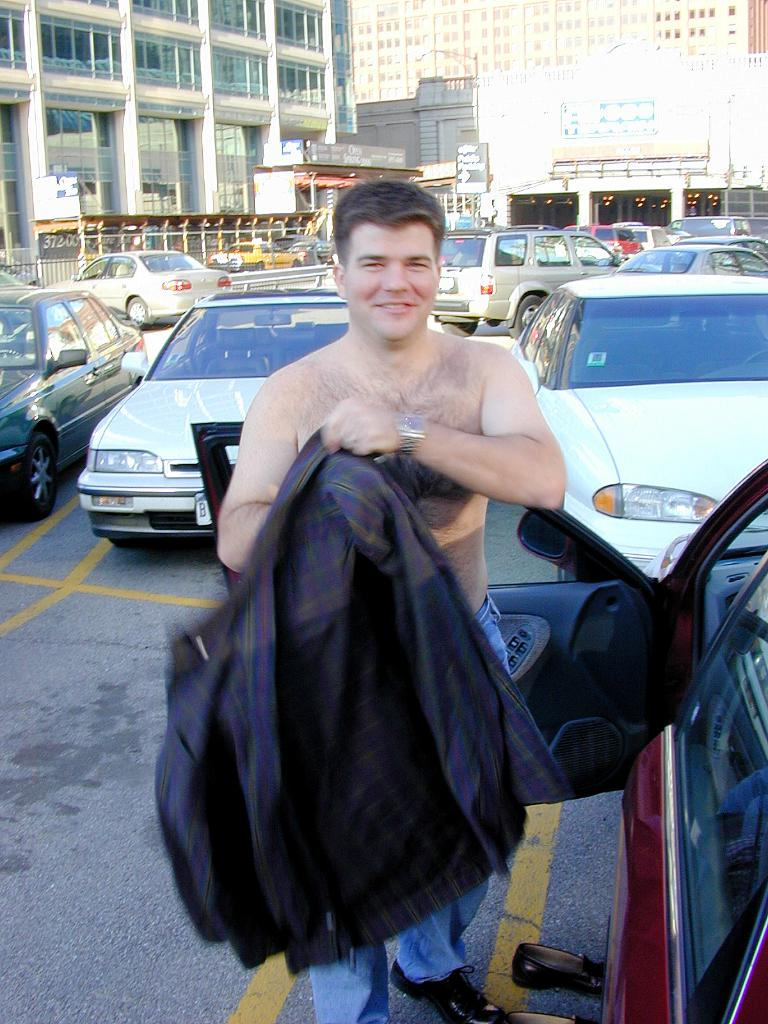Car: (510, 282, 767, 583), (78, 288, 351, 542), (0, 288, 143, 520), (432, 235, 618, 340), (58, 253, 230, 332), (599, 246, 767, 273)
